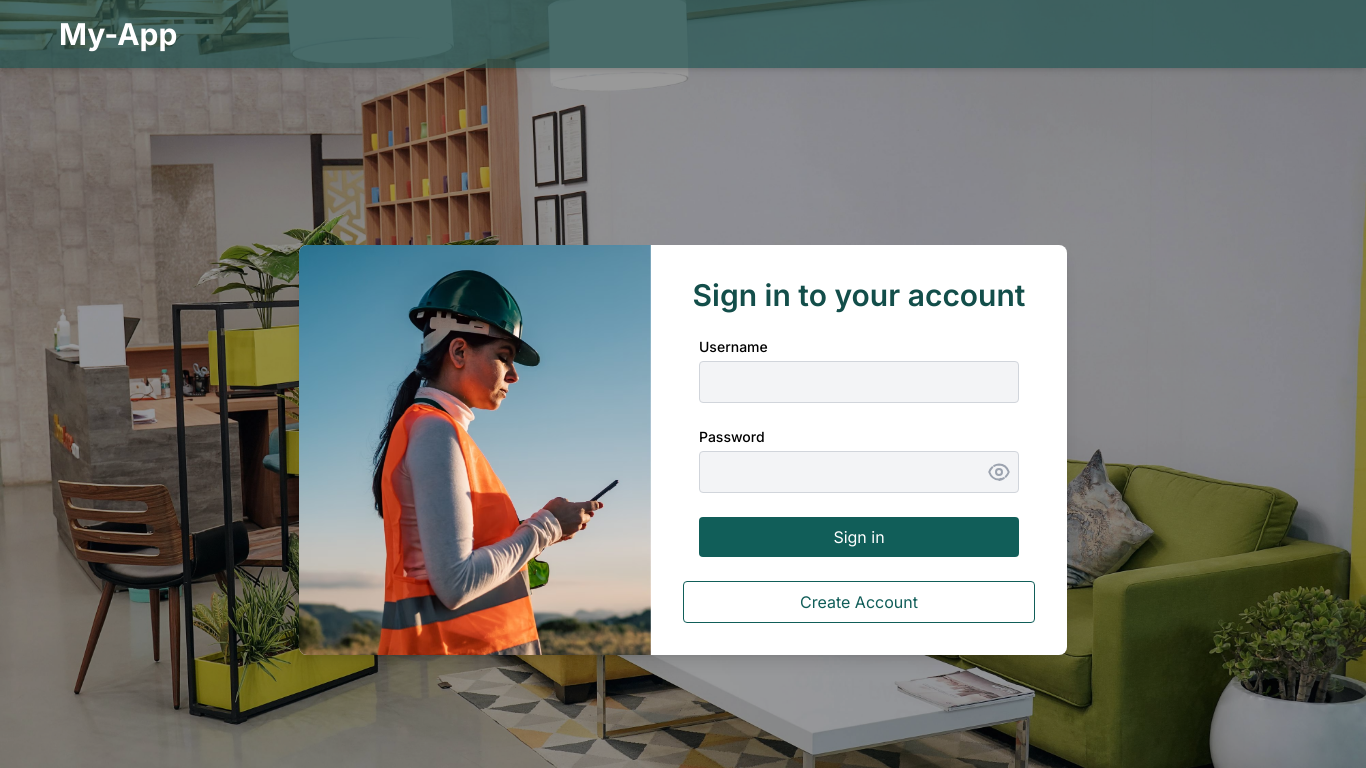
Test: LoginPage › shows error message on login failure - incorrect username
In the field labelled "Username": (859, 382) [699,361,1019,403], type "testuser"
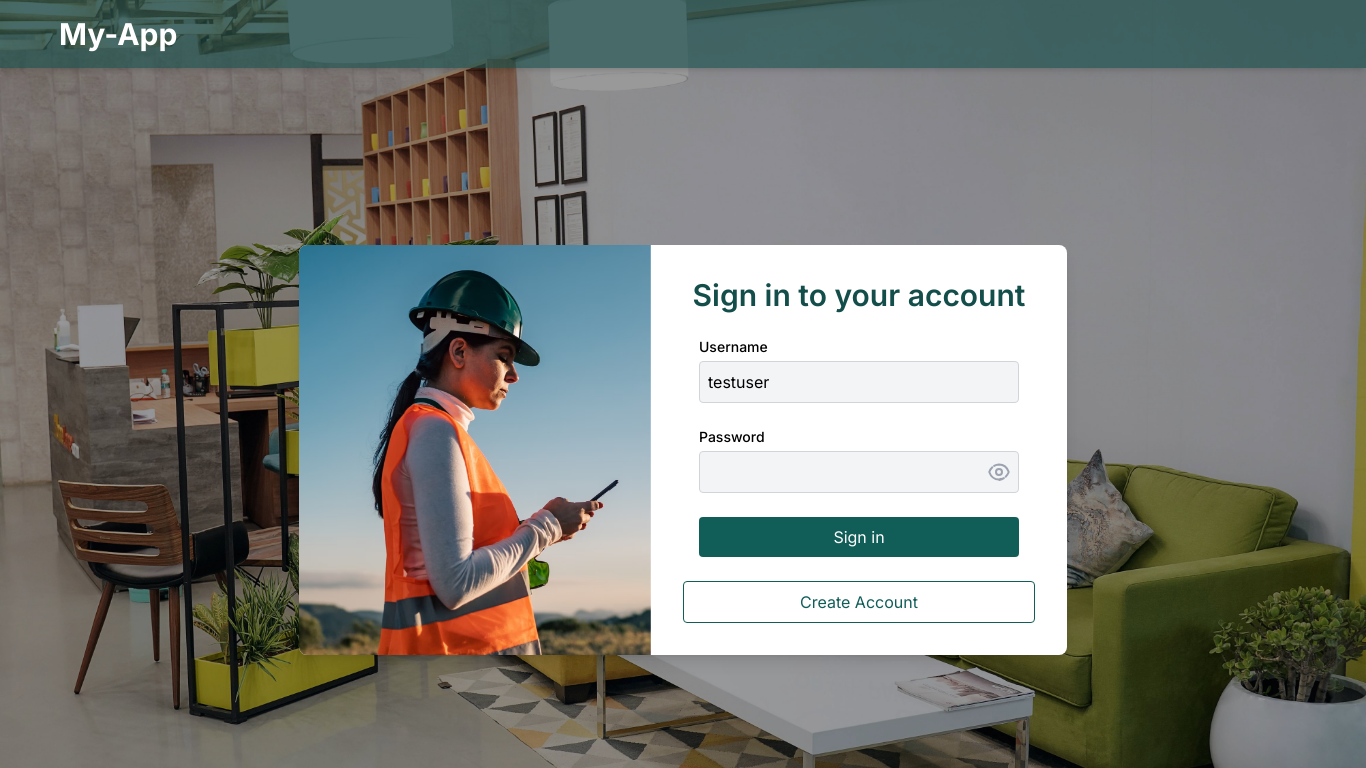
In the password field labelled "Password": (859, 472) [699,451,1019,493], type "password123"
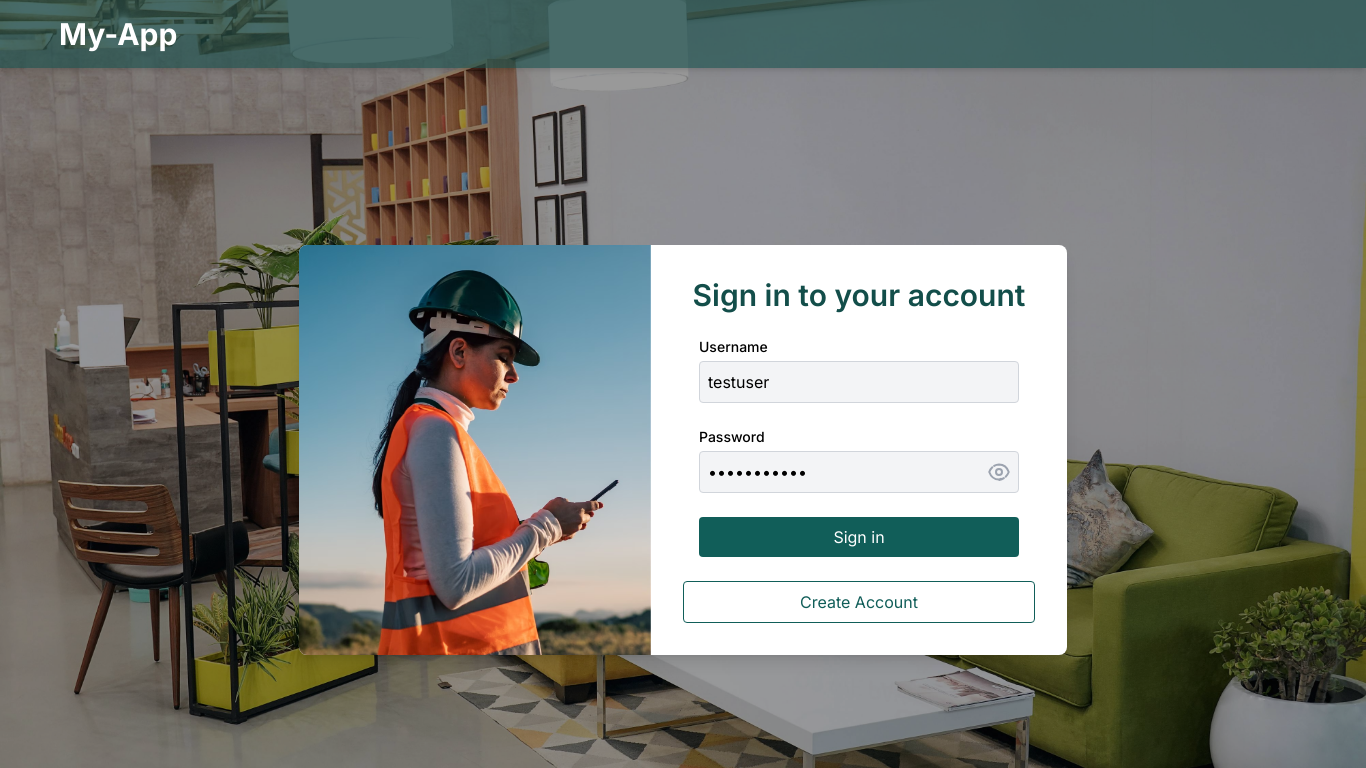
Click the button "Sign in": (859, 537) [699,517,1019,557]
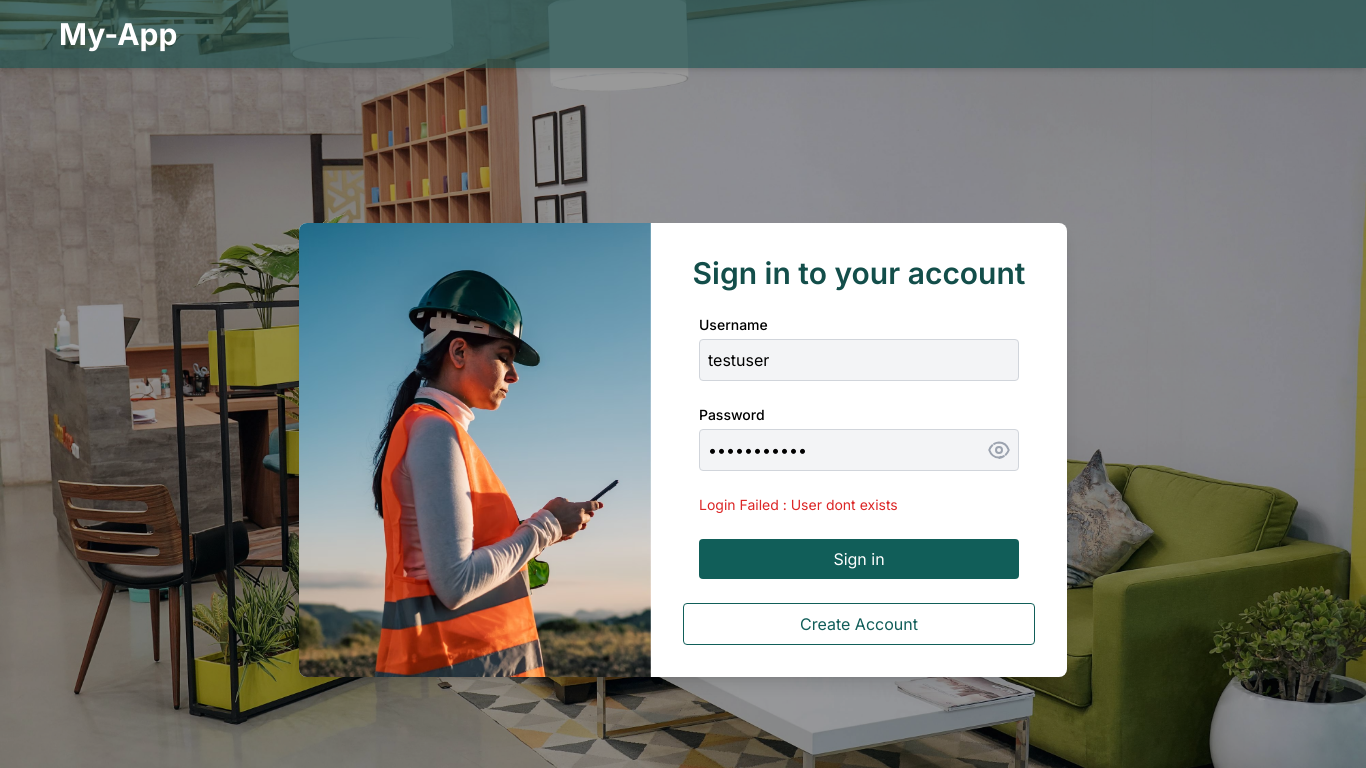
Expected: the text "Login Failed : User dont exists" is shown, [699,496,898,513]
